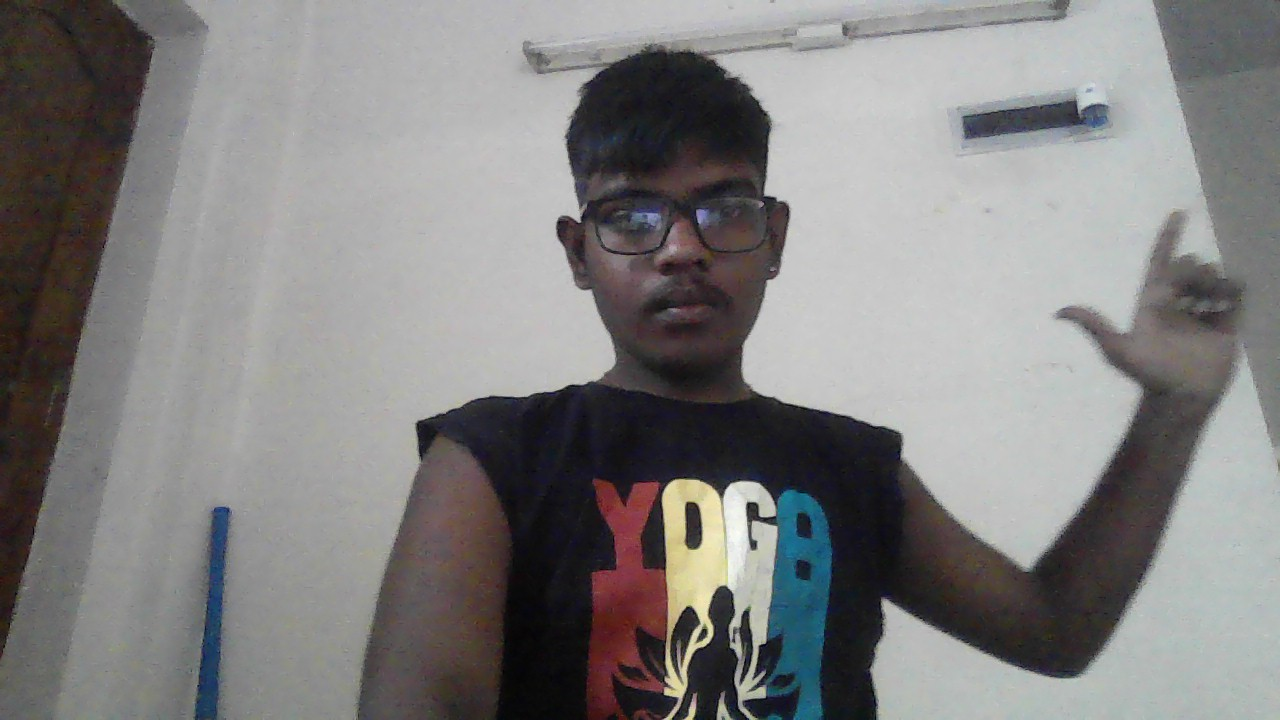L: (1055, 206, 1244, 395)
